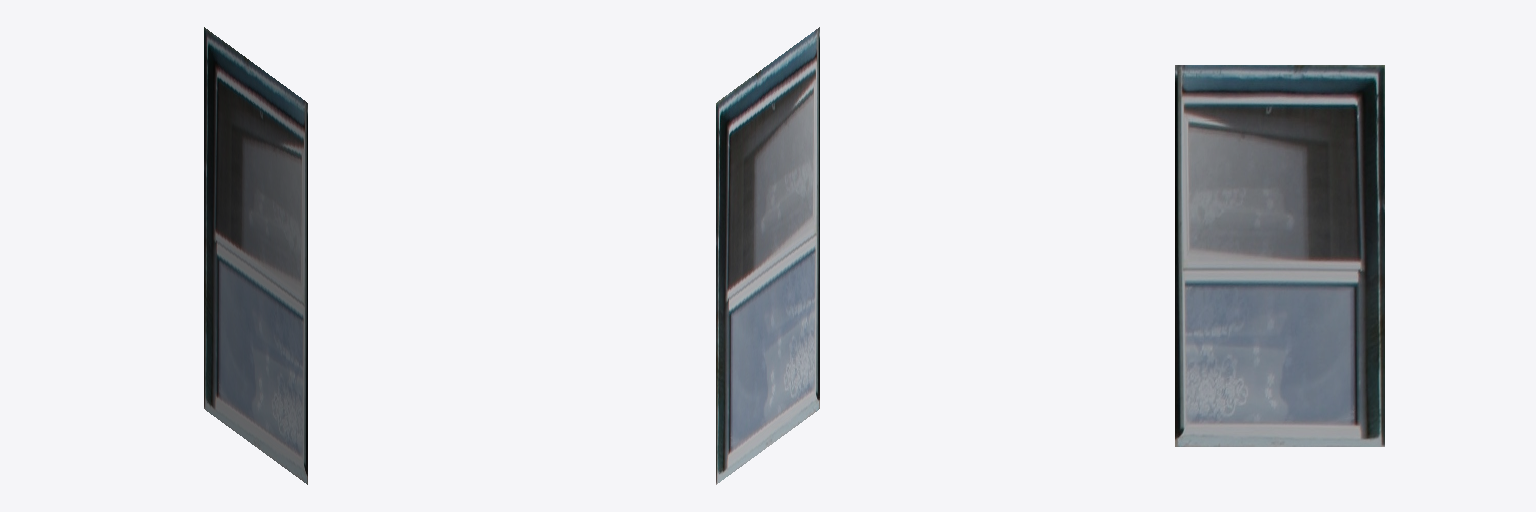
3 views of the same model, side by side, from view 1: azimuth 30°, elevation 25°; view 2: azimuth 150°, elevation 25°; view 3: azimuth 270°, elevation 25° (orthographic).
Visible parts, largest first — view 1: Plane001; view 2: Plane001; view 3: Plane001.
Part boxes in pixels (bbox=[...]): Plane001: bbox=[204, 27, 307, 484]; Plane001: bbox=[716, 27, 819, 484]; Plane001: bbox=[1175, 65, 1384, 446].
Size of the model in its own units: 0 by 402 by 200.
1 materials, 1 textured.